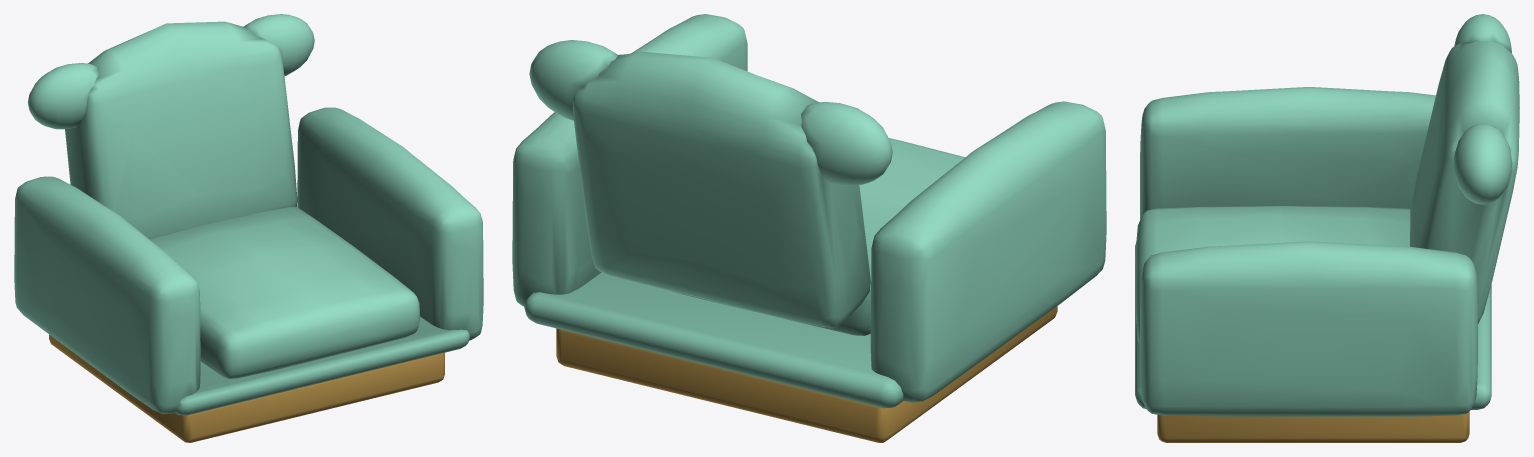
File: armchair-mint.glb
The picture shows the model from 3 angles, left to right: view 1: azimuth 30°, elevation 25°; view 2: azimuth 150°, elevation 25°; view 3: azimuth 270°, elevation 25°; orthographic projection. The views are drawn at different scales.
Visible parts, largest first — view 1: armchair-mint; view 2: armchair-mint; view 3: armchair-mint.
Part boxes in pixels (x1=…): armchair-mint: x1=14, y1=14, x2=483, y2=442; armchair-mint: x1=512, y1=14, x2=1106, y2=442; armchair-mint: x1=1135, y1=14, x2=1519, y2=442.
Bounding box in the file's own units: 0.9689 × 0.7796 × 0.8629.
